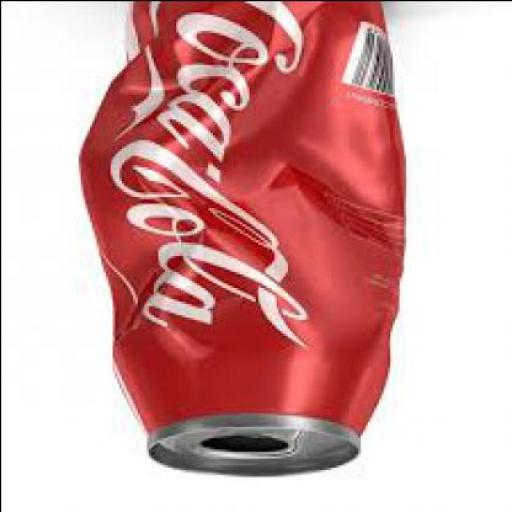metal: (78, 2, 408, 478)
